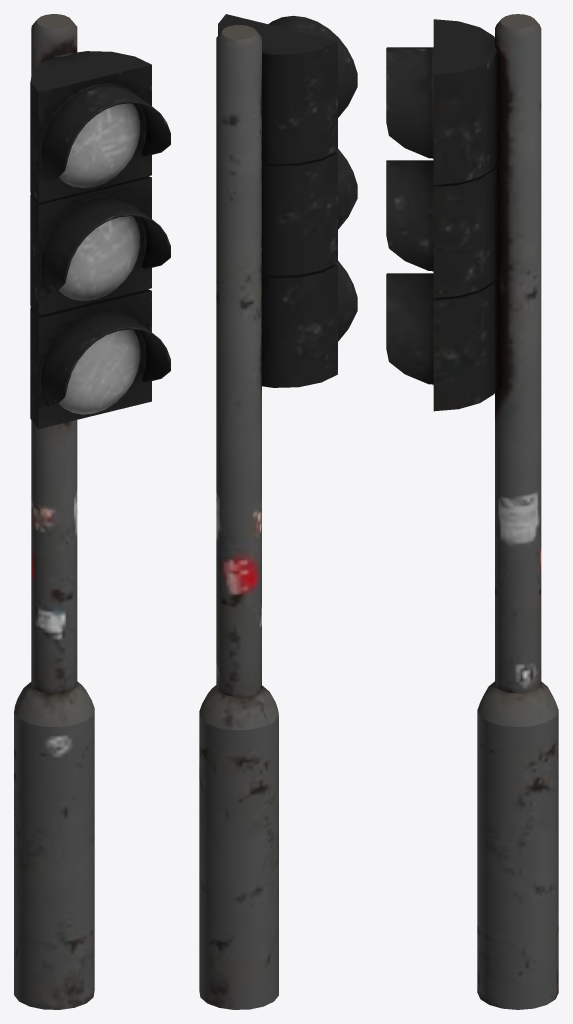
Rendered from signal_3000.glb.
The picture shows the model from 3 angles, left to right: view 1: azimuth 30°, elevation 25°; view 2: azimuth 150°, elevation 25°; view 3: azimuth 270°, elevation 25°; orthographic projection.
Parts seen in each view (by area): view 1: signal_3000; view 2: signal_3000; view 3: signal_3000.
Boxes of the visible parts, <box> form: signal_3000: <box>14,14,170,1009</box>; signal_3000: <box>199,14,357,1009</box>; signal_3000: <box>386,14,558,1009</box>.
Bounding box in the file's own units: 0.415 × 3.4 × 0.547.
Materials: 1 (1 with a texture image).
